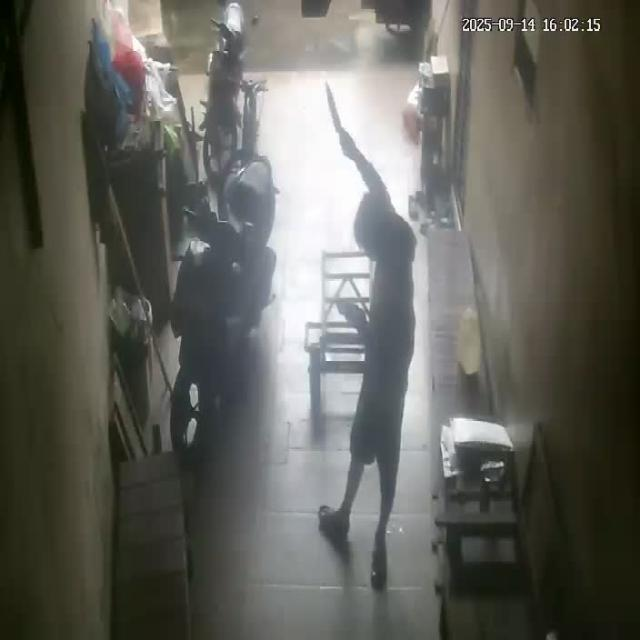senjata_tajam: (324, 82, 341, 134)
